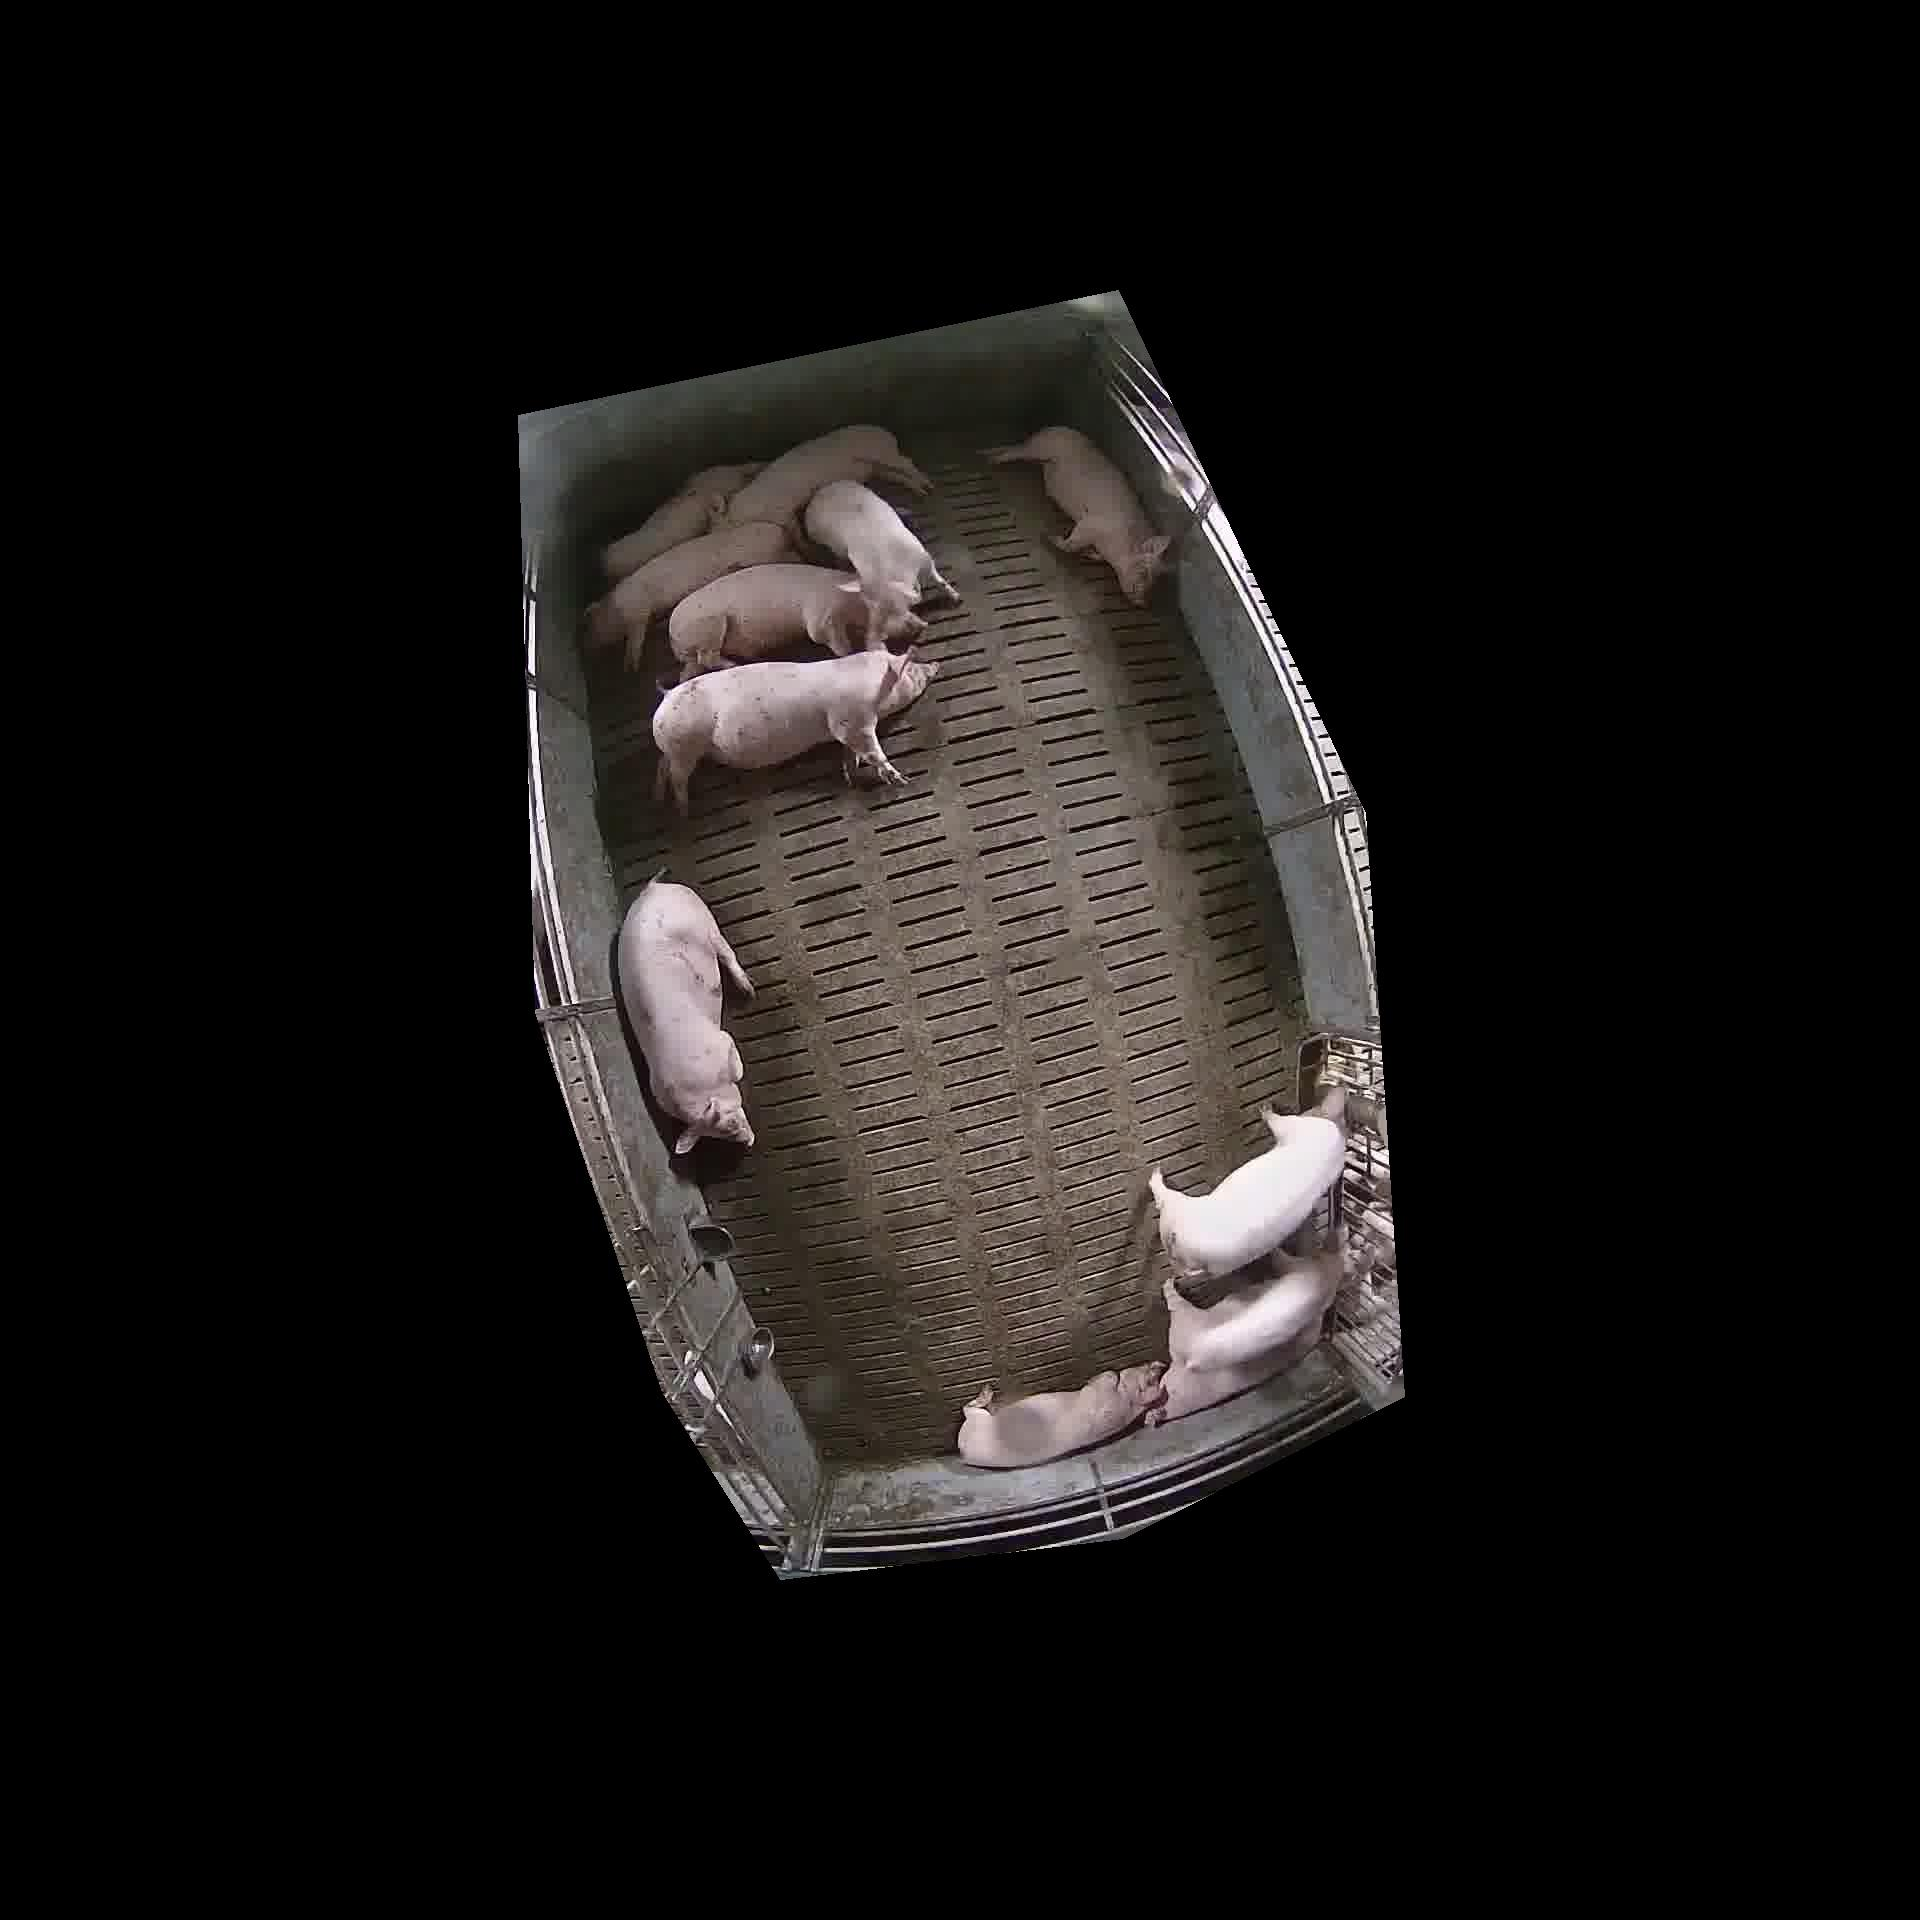pig: (652, 651, 935, 812), (617, 879, 753, 1153), (1148, 1088, 1345, 1276), (988, 425, 1169, 605), (585, 522, 795, 668), (804, 480, 958, 649), (670, 563, 869, 679), (958, 1363, 1164, 1466), (1166, 1248, 1340, 1368), (726, 425, 930, 527), (1145, 1317, 1322, 1424), (601, 462, 761, 580), (918, 622, 925, 628)
